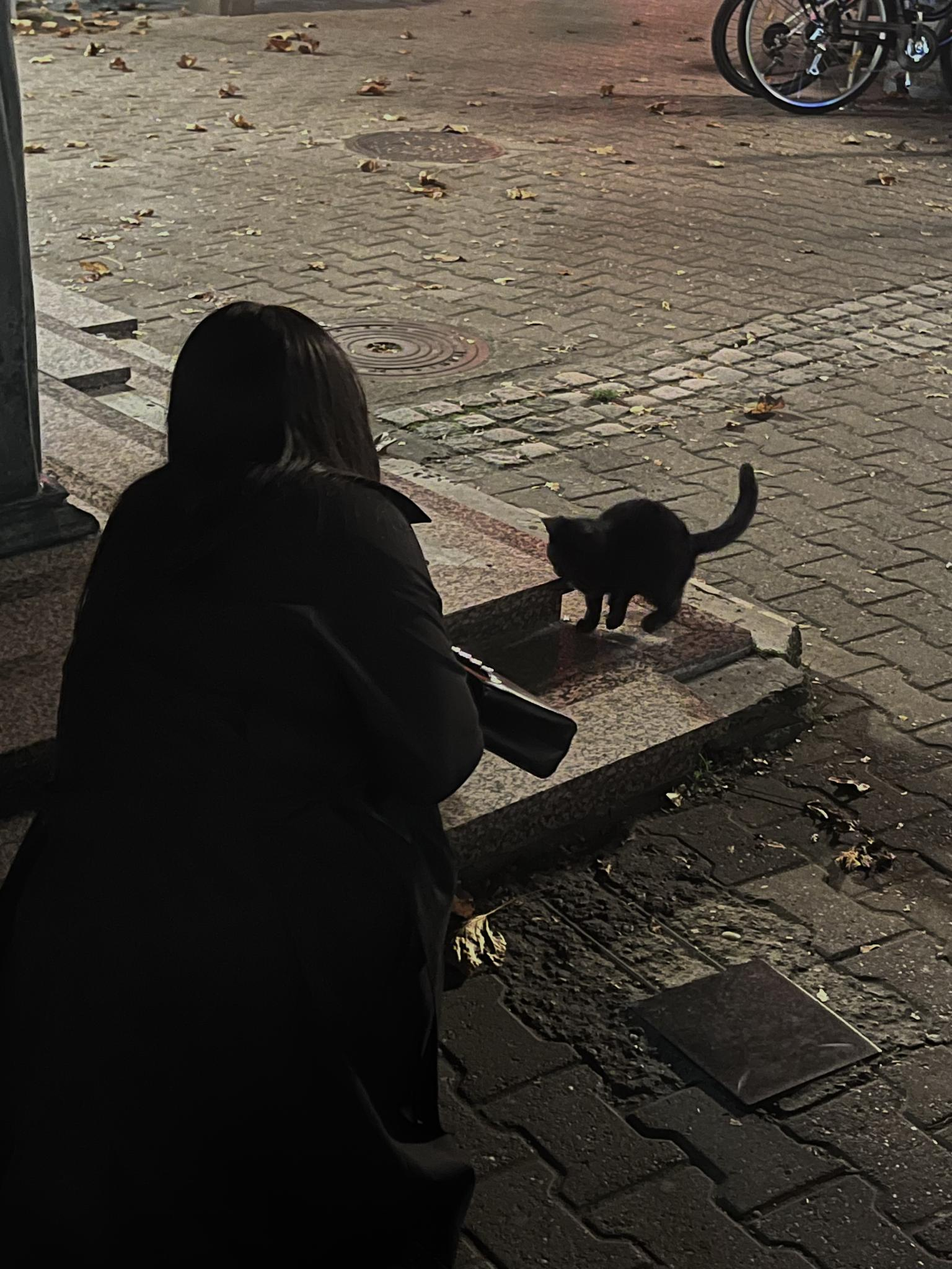macka: (542, 461, 759, 634)
